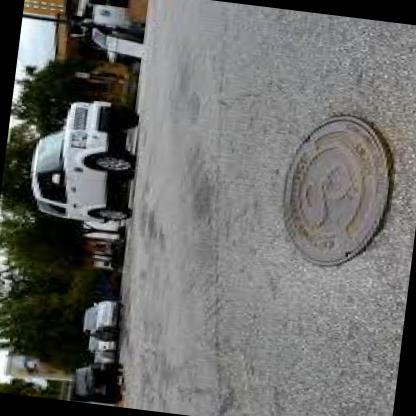manholes: (250, 63, 414, 292)
